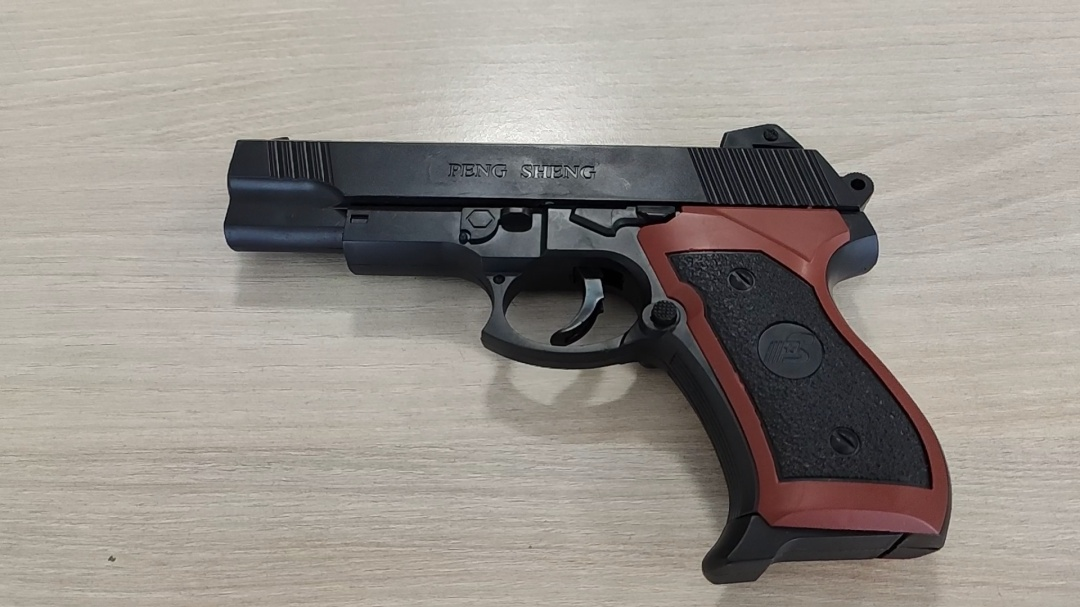gun: (224, 123, 951, 587)
